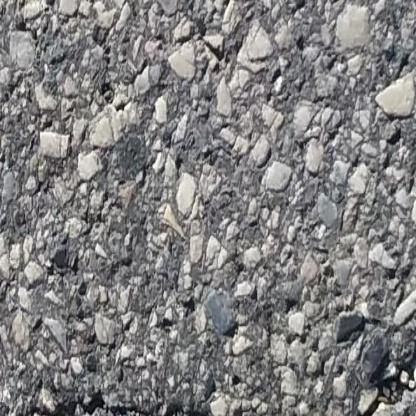Cracks: (338, 319, 416, 416), (0, 387, 258, 416), (335, 314, 406, 355), (0, 0, 47, 7)
